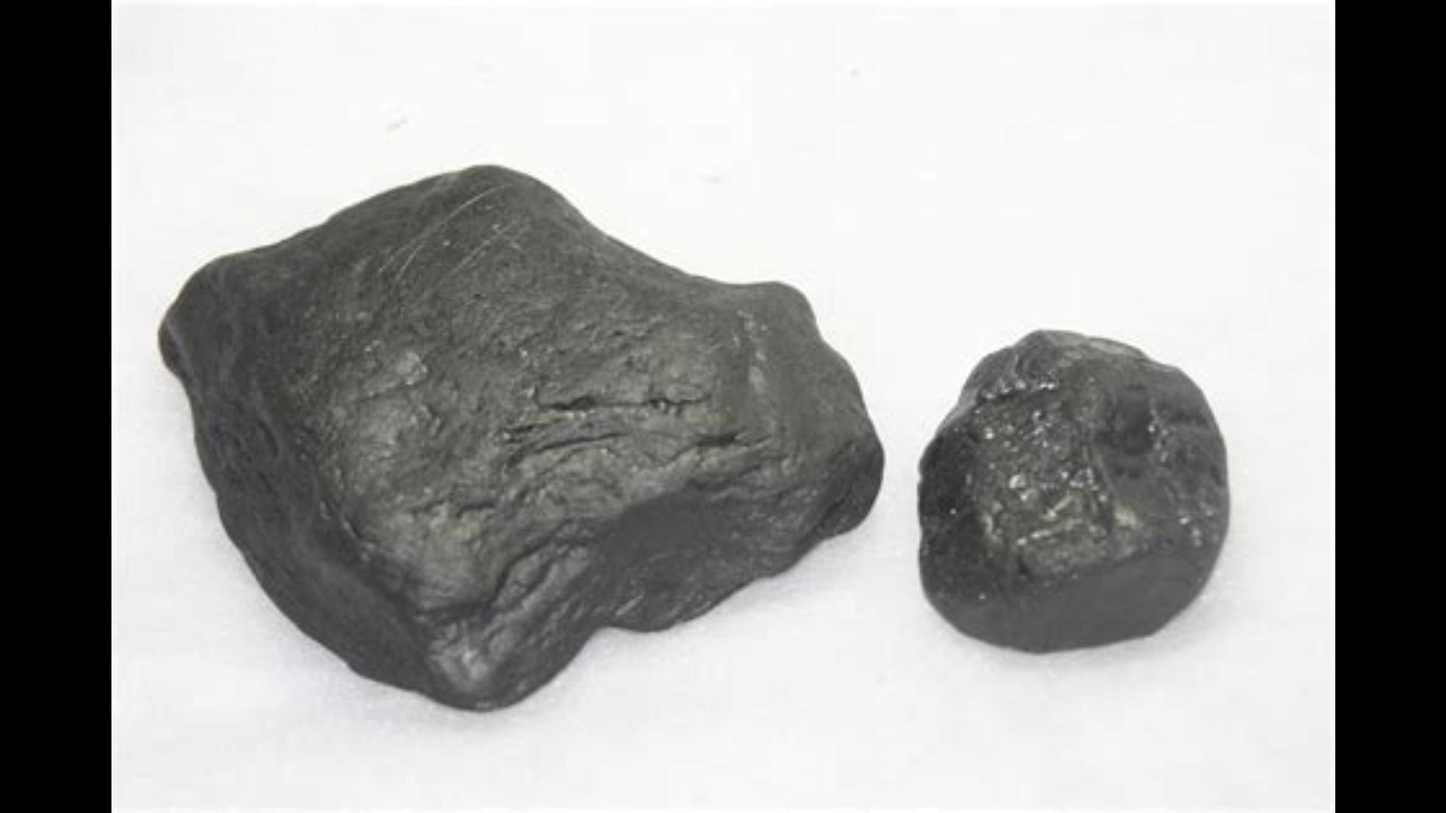rock: (160, 168, 880, 707), (919, 330, 1226, 650)
